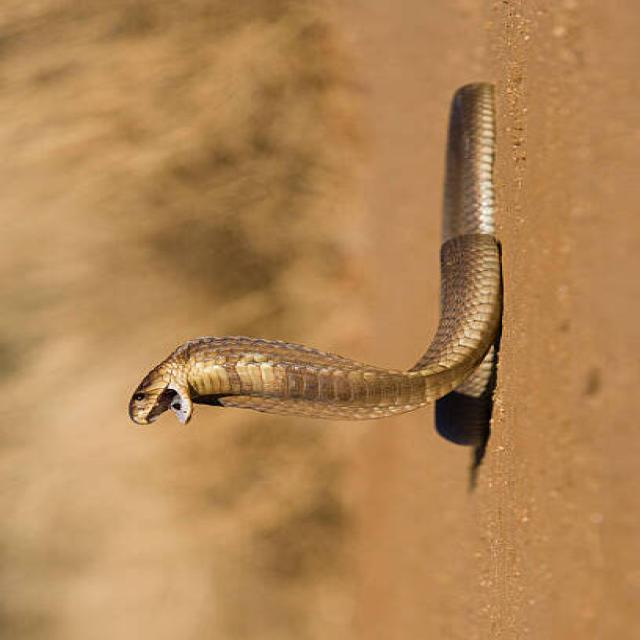Venomous: (120, 328, 340, 432)
